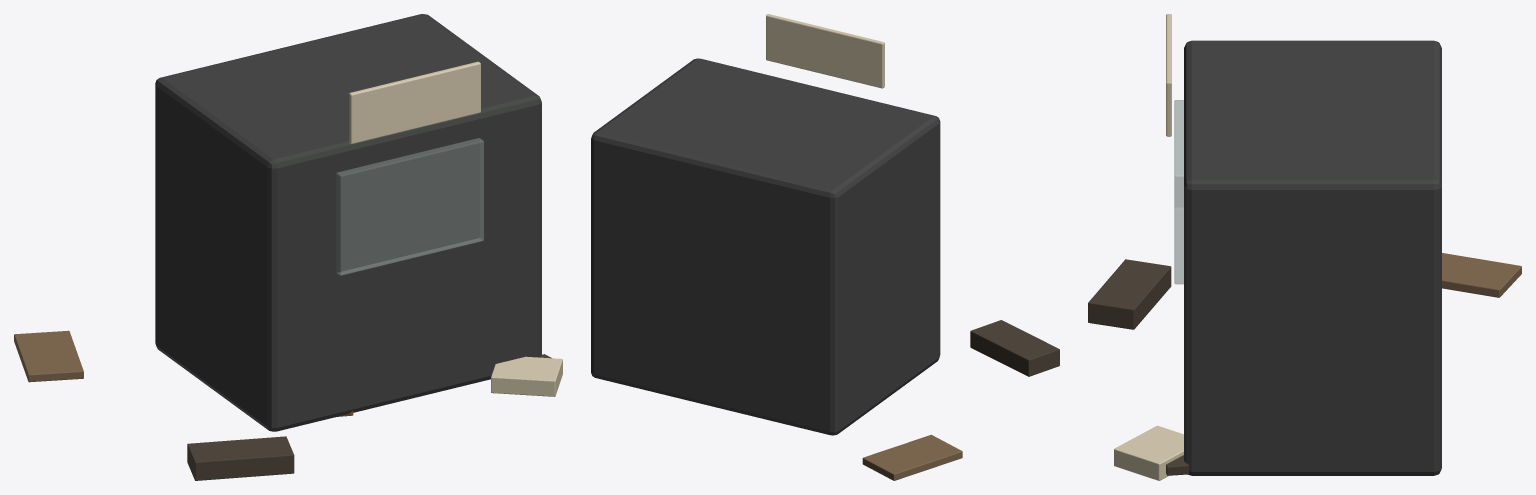
File: dz_urban_utility_box_stack_premium.glb
3 renders of one model, left to right at view 1: azimuth 30°, elevation 25°; view 2: azimuth 150°, elevation 25°; view 3: azimuth 270°, elevation 25°, orthographic. The views are drawn at different scales.
Parts seen in each view (by area): view 1: utility_box_stack, small_control_panel, utility_box_warning, cratebox_debris_02, cratebox_debris_01, cratebox_debris_00; view 2: utility_box_stack, utility_box_warning, cratebox_debris_02, cratebox_debris_01; view 3: utility_box_stack, cratebox_debris_02, cratebox_debris_00, cratebox_debris_01, small_control_panel, utility_box_warning.
Boxes of the visible parts, x1,y1,x2,y2 form: utility_box_stack: [155, 14, 541, 431]; small_control_panel: [336, 138, 483, 275]; utility_box_warning: [349, 61, 480, 144]; cratebox_debris_02: [187, 436, 294, 480]; cratebox_debris_01: [14, 330, 83, 382]; cratebox_debris_00: [491, 356, 562, 396]; utility_box_stack: [591, 58, 940, 435]; utility_box_warning: [766, 14, 884, 88]; cratebox_debris_02: [970, 320, 1059, 376]; cratebox_debris_01: [862, 434, 962, 480]; utility_box_stack: [1184, 40, 1441, 475]; cratebox_debris_02: [1088, 259, 1171, 329]; cratebox_debris_00: [1114, 425, 1183, 480]; cratebox_debris_01: [1442, 253, 1521, 297]; small_control_panel: [1174, 100, 1183, 284]; utility_box_warning: [1166, 14, 1171, 136].
Size of the model in its own units: 1.21 by 0.9215 by 1.01.
